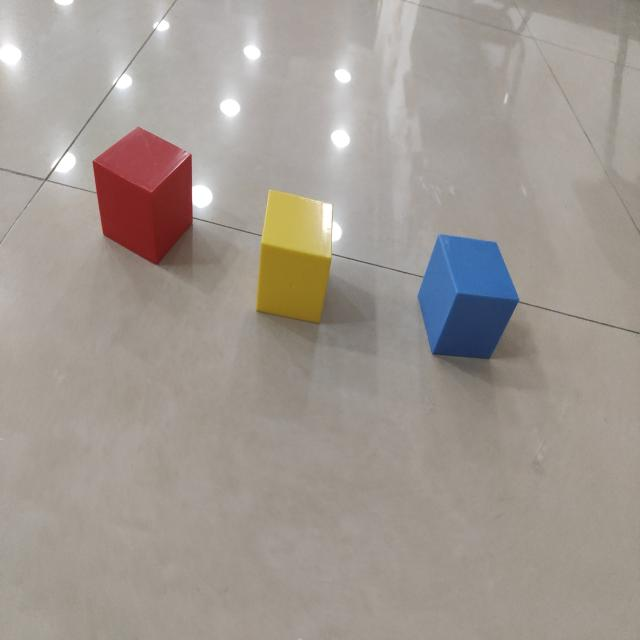blue: (417, 234, 520, 361)
red: (91, 129, 195, 266)
yellow: (255, 191, 336, 326)
